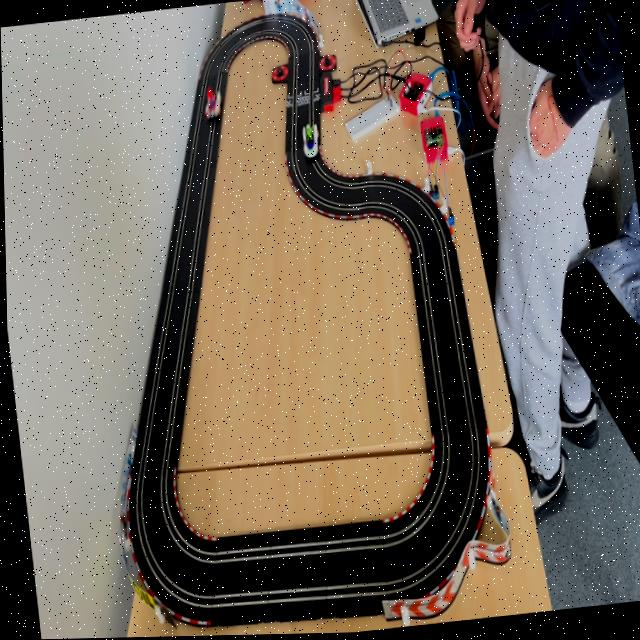mario: (199, 83, 226, 121)
yoshi: (299, 122, 320, 161)
